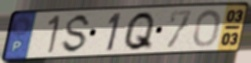1: (106, 11, 123, 53), (46, 14, 62, 56)
7: (166, 9, 193, 50)
O: (192, 8, 223, 48)
Q: (121, 10, 157, 53)
S: (59, 13, 93, 55)
